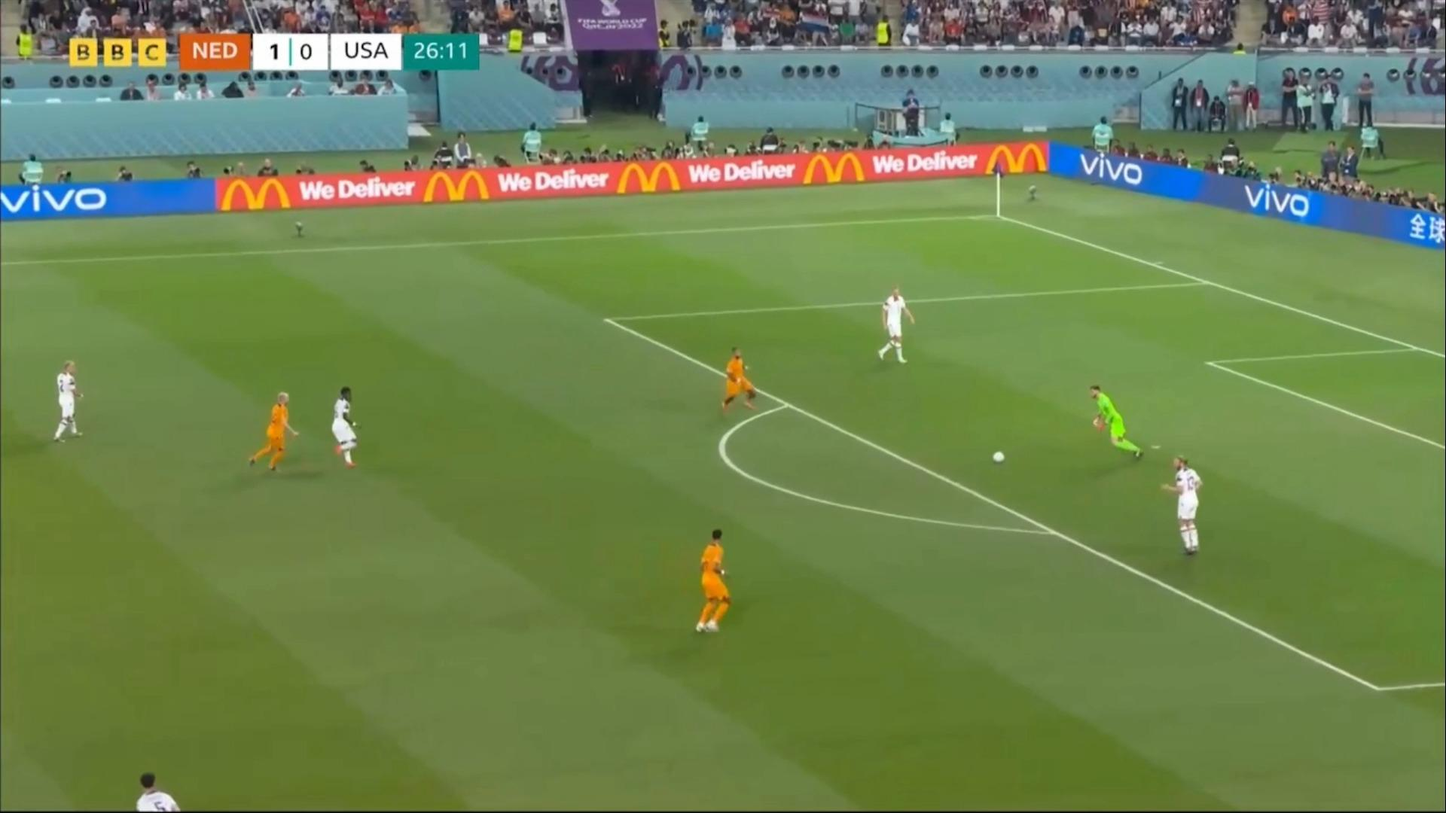Ball: (993, 451, 1005, 466)
Player: (687, 524, 741, 638), (1161, 454, 1212, 560), (321, 381, 371, 472), (253, 386, 303, 472), (1089, 385, 1144, 461), (44, 356, 88, 450), (874, 283, 919, 371), (712, 345, 757, 417), (129, 770, 185, 813)
